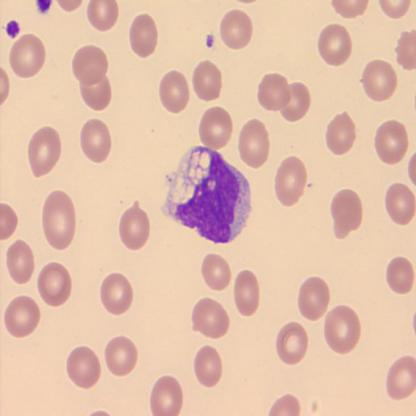Monocyte: (160, 143, 254, 246)
